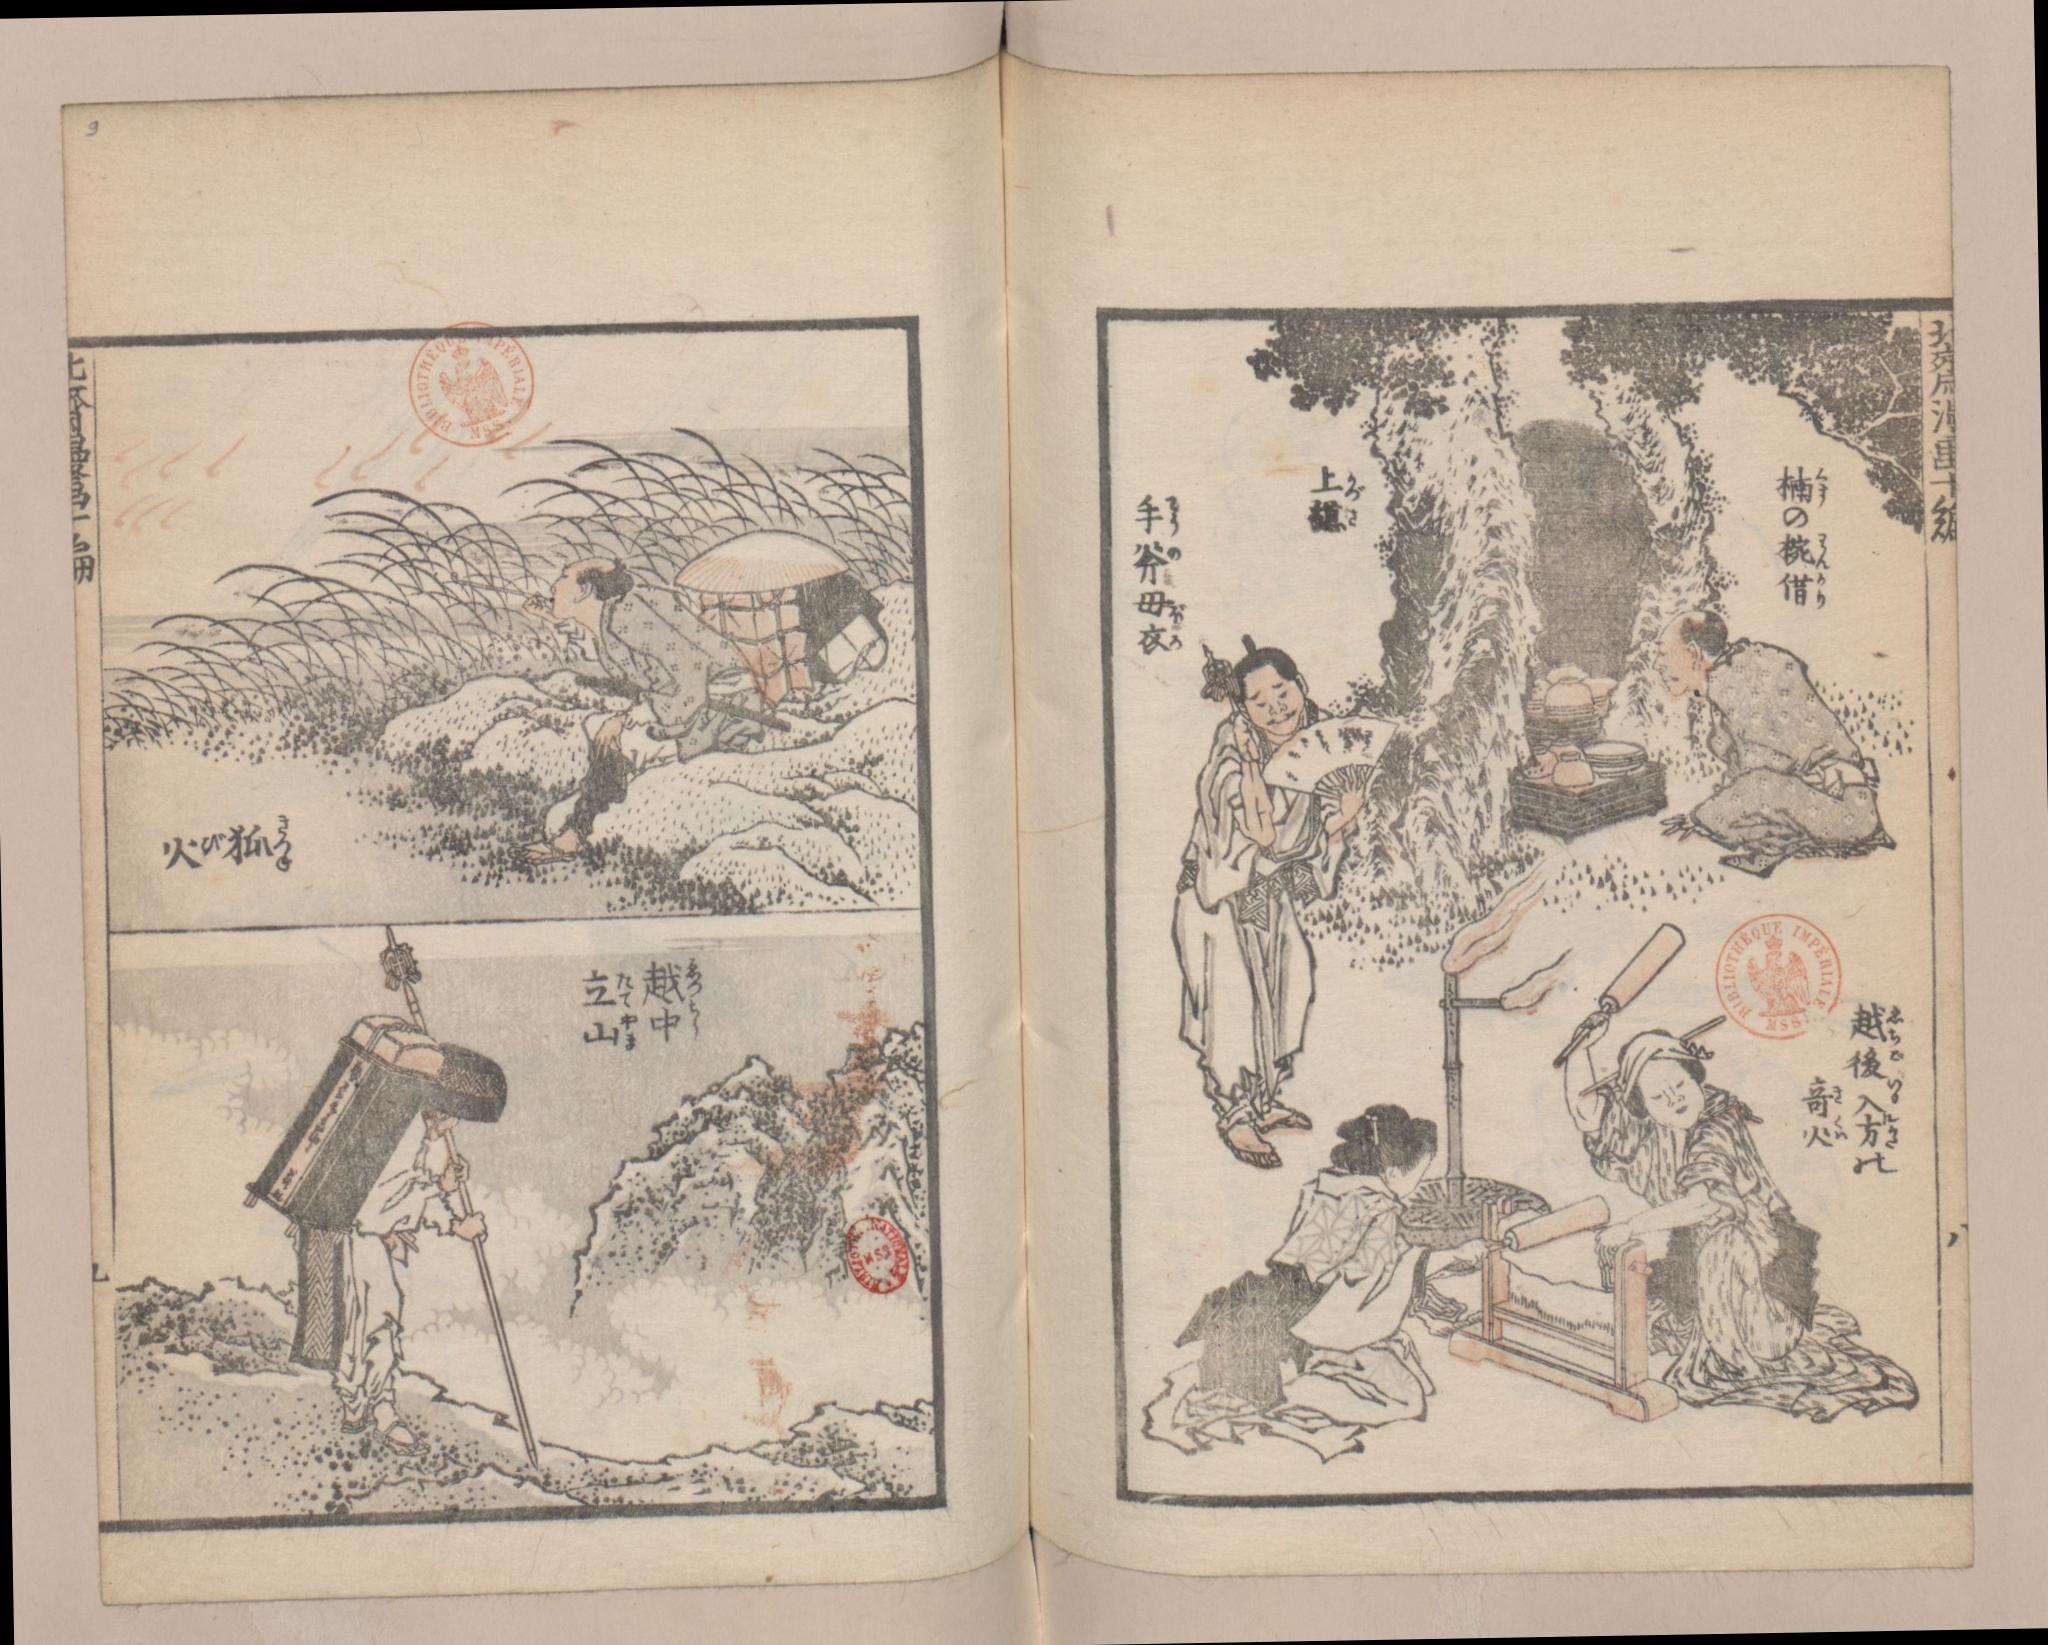MainZone-Character: (227, 811, 300, 878), (158, 822, 227, 875), (1126, 534, 1187, 589), (645, 1000, 715, 1047), (641, 953, 712, 999), (577, 1009, 645, 1054), (1847, 999, 1910, 1044), (1771, 529, 1835, 569), (1800, 1066, 1850, 1116), (1776, 567, 1831, 613), (1769, 463, 1831, 504), (1130, 488, 1183, 534), (1301, 499, 1368, 534), (1303, 460, 1366, 497), (1840, 1044, 1909, 1076), (581, 969, 636, 1007), (1130, 589, 1189, 623), (1855, 1111, 1905, 1150), (1803, 1115, 1855, 1151), (1850, 1076, 1904, 1111), (1131, 626, 1190, 658)
MainZone-Ruby: (274, 814, 297, 876), (618, 1010, 643, 1054), (195, 828, 227, 861), (1811, 530, 1835, 567), (1882, 1004, 1905, 1041), (683, 958, 707, 995), (1341, 468, 1370, 497), (1813, 463, 1833, 502), (614, 969, 636, 1004), (1163, 490, 1182, 527), (1811, 571, 1828, 611), (688, 1004, 707, 1039), (1882, 1111, 1899, 1150), (1828, 1116, 1848, 1145), (1345, 504, 1365, 530), (1163, 539, 1183, 566), (1165, 599, 1187, 623), (1885, 1078, 1904, 1104), (1165, 629, 1185, 651), (1831, 1079, 1847, 1108), (1887, 1047, 1905, 1068)
